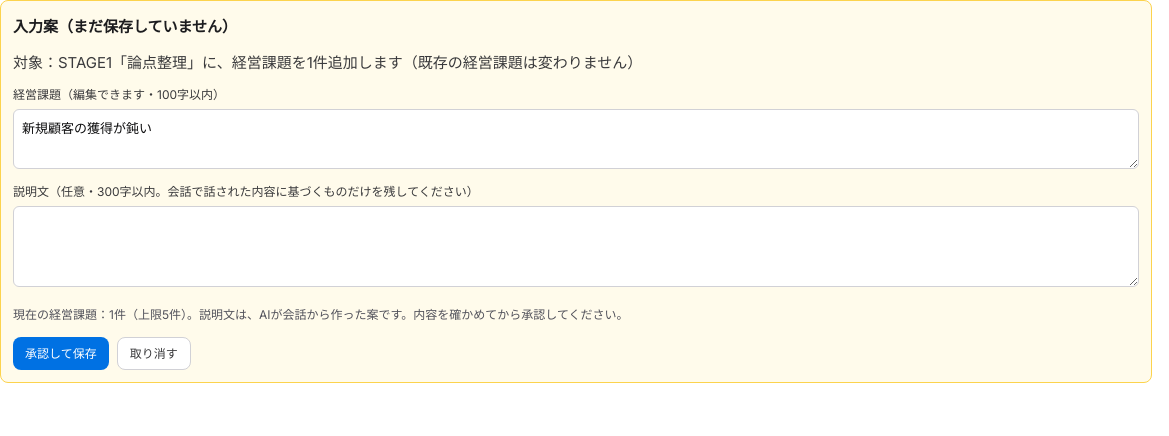
Scenario: 入力案の承認：説明文と検証（文字数・重複・上限） › 題名を、既存の経営課題と同じ内容に編集したら、保存せず、入力は残す（重複）
Replace the text in the text box labelled "経営課題（編集できます・100字以内）" with "既存顧客の離脱が増えている": (576, 139) [13,108,1139,169]
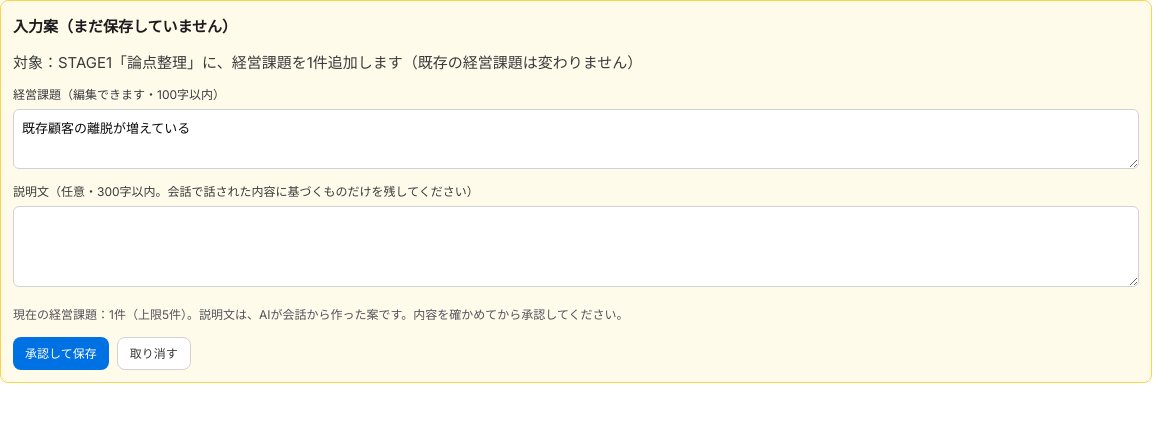
Click the button "承認して保存": (61, 353) [13,337,109,370]
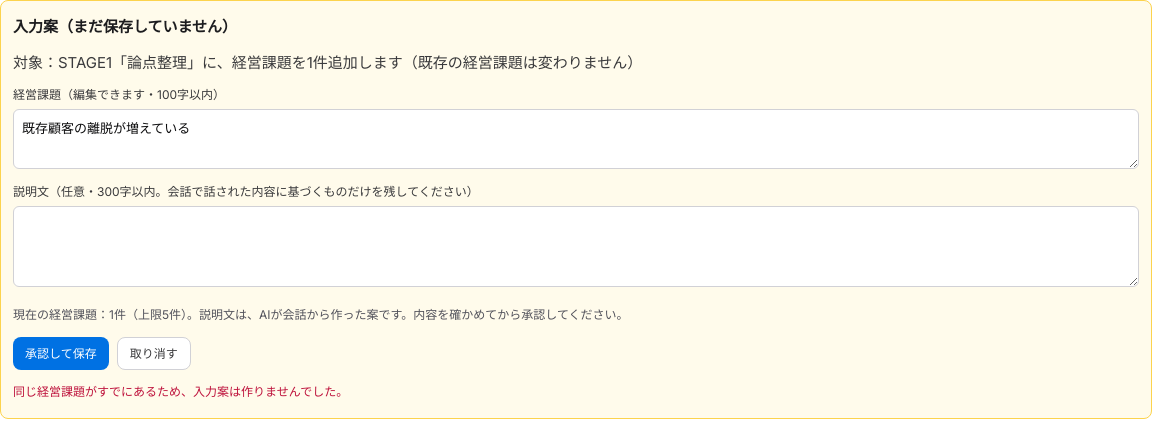
Expected: the text "同じ経営課題がすでにあるため、入力案は作りませんでした。" is shown, [13,384,348,399]
